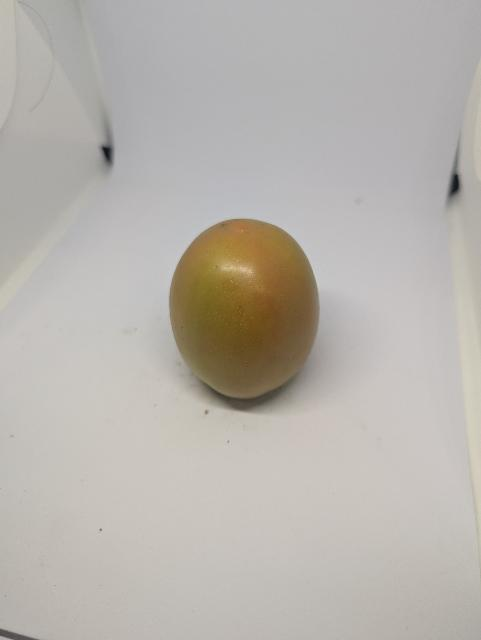breaker: (170, 219, 320, 398)
